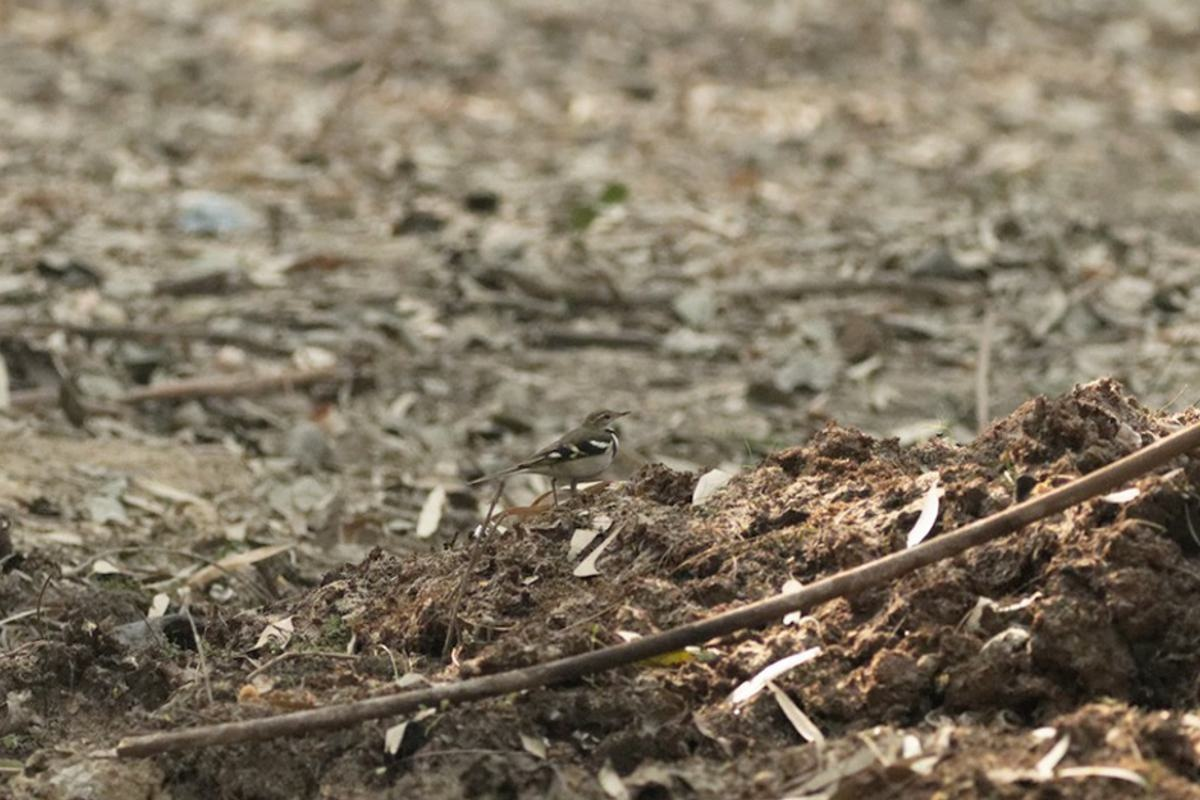wagtail: (490, 396, 639, 505)
